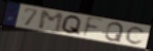7: (23, 7, 40, 27)
C: (124, 26, 147, 45)
F: (80, 16, 105, 39)
M: (38, 9, 66, 33)
Q: (60, 15, 84, 37), (104, 22, 125, 43)
